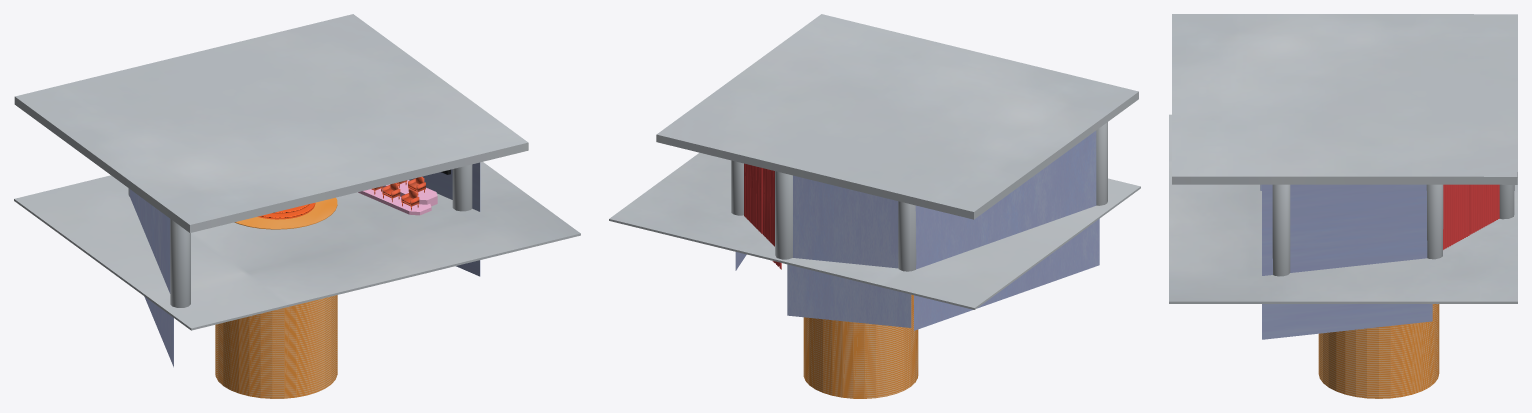
File: TV_Stadio.obj
The picture shows the model from 3 angles, left to right: view 1: azimuth 30°, elevation 25°; view 2: azimuth 150°, elevation 25°; view 3: azimuth 270°, elevation 25°; orthographic projection. The views are drawn at different scales.
Parts seen in each view (by area): view 1: 円柱.035, 円柱.033, 立方体.001, 立方体.107, 立方体.005; view 2: 円柱.035, 立方体.001, 円柱.033, 円柱.031, 円柱.027; view 3: 円柱.035, 立方体.001, 円柱.033, 円柱.031, 円柱.027.
Part boxes in pixels (<box>): 円柱.035: <box>14,14,580,330</box>; 円柱.033: <box>215,197,337,398</box>; 立方体.001: <box>129,162,480,367</box>; 立方体.107: <box>358,180,437,215</box>; 立方体.005: <box>371,176,425,210</box>; 円柱.035: <box>609,14,1140,309</box>; 立方体.001: <box>735,131,1099,330</box>; 円柱.033: <box>803,294,918,398</box>; 円柱.031: <box>744,163,762,233</box>; 円柱.027: <box>762,168,781,269</box>; 円柱.035: <box>1169,14,1517,303</box>; 立方体.001: <box>1260,184,1432,339</box>; 円柱.033: <box>1318,304,1439,398</box>; 円柱.031: <box>1443,184,1469,249</box>; 円柱.027: <box>1469,184,1499,234</box>.
Size of the model in its own units: 220 by 147 by 173.
11 materials, 11 textured.
